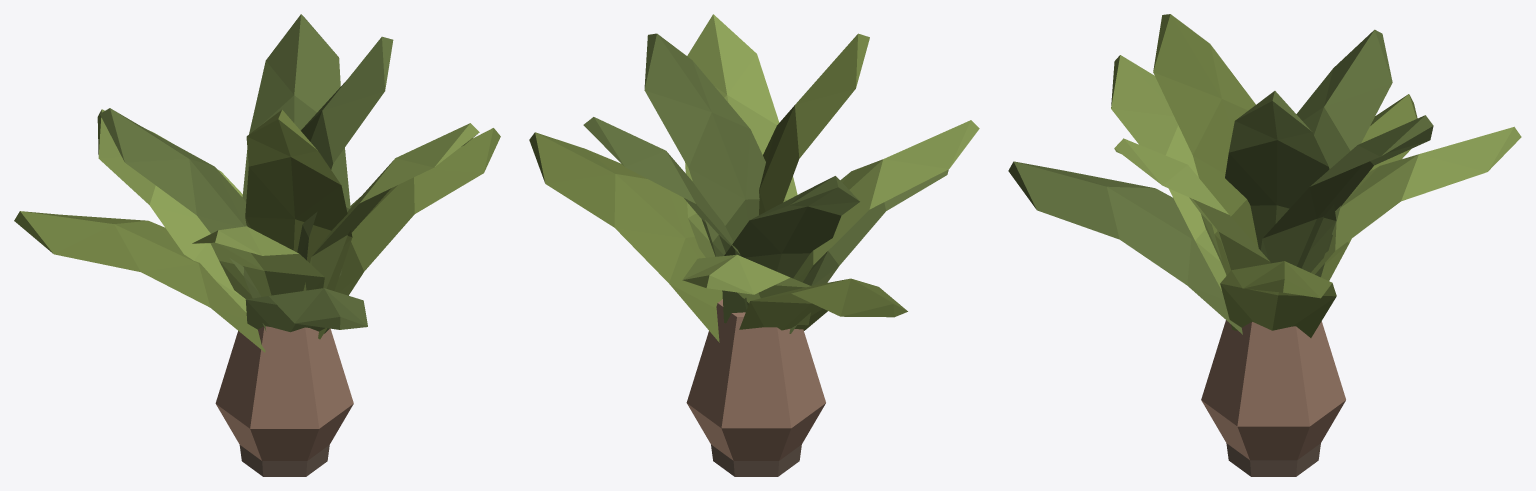
The model's file is tree_0701.dae.
The picture shows the model from 3 angles, left to right: view 1: azimuth 30°, elevation 25°; view 2: azimuth 150°, elevation 25°; view 3: azimuth 270°, elevation 25°; orthographic projection. The views are drawn at different scales.
Parts seen in each view (by area): view 1: tree_0701; view 2: tree_0701; view 3: tree_0701.
Part boxes in pixels (x1,y1,x2,y2): tree_0701: (14, 14, 500, 476); tree_0701: (529, 14, 979, 476); tree_0701: (1008, 14, 1521, 476).
Size of the model in its own units: 3.13 by 3.12 by 2.82.
